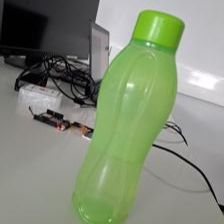bottle: (66, 10, 190, 223)
